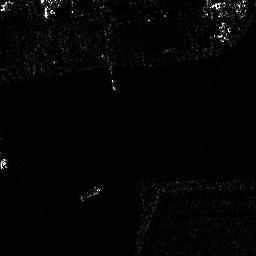ship: (79, 184, 102, 201)
